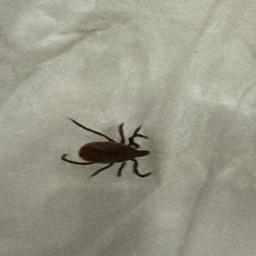Ixodes scapularis: (60, 116, 153, 179)
